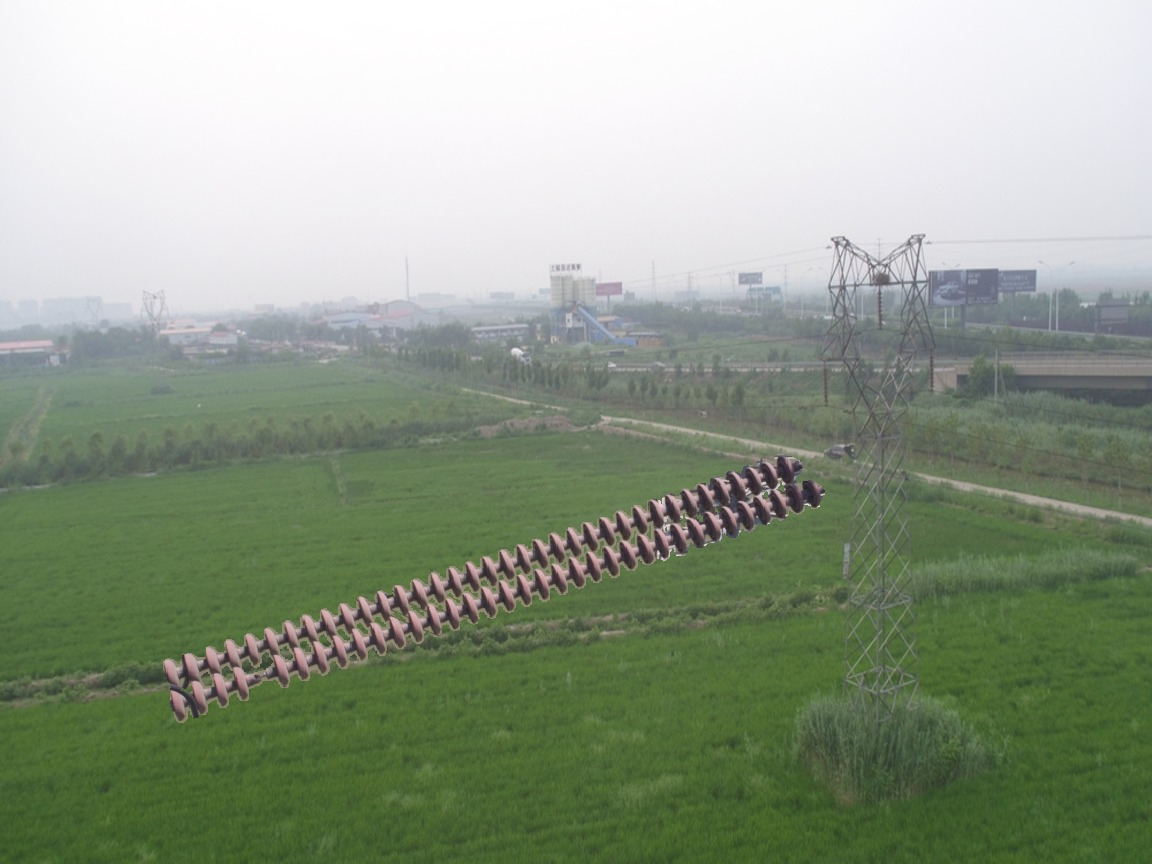defect: (229, 649, 295, 702)
